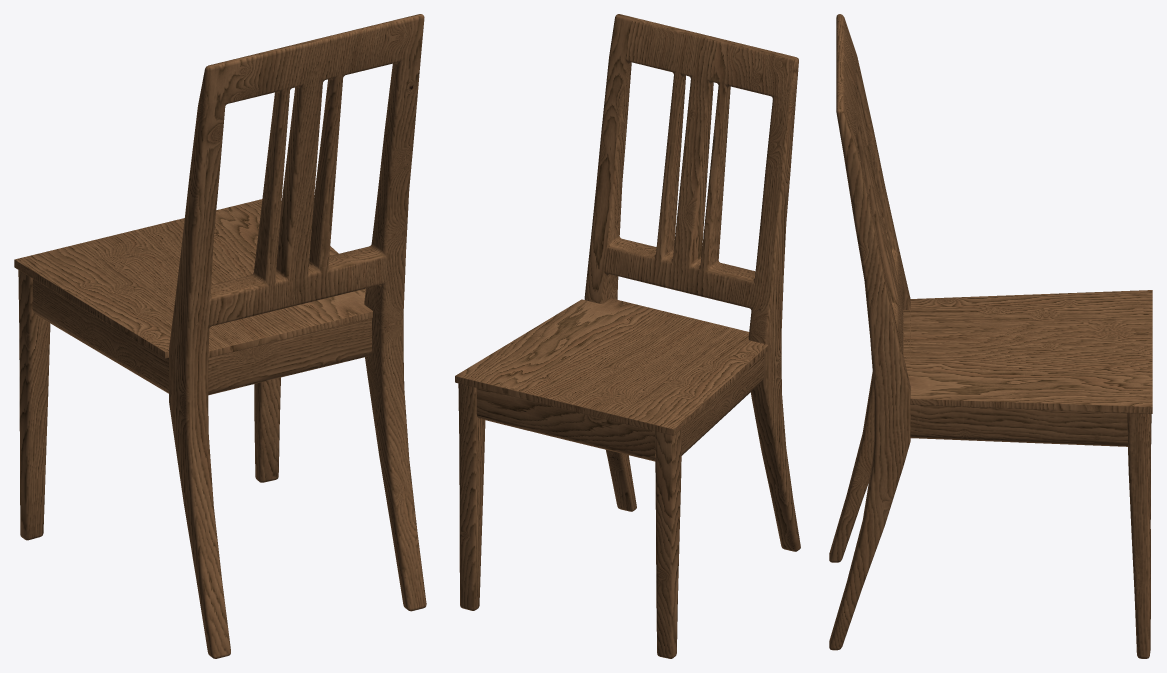
The model's file is Chair01.fbx.
3 renders of one model, left to right at view 1: azimuth 30°, elevation 25°; view 2: azimuth 150°, elevation 25°; view 3: azimuth 270°, elevation 25°, orthographic. The views are drawn at different scales.
Parts seen in each view (by area): view 1: Chair01; view 2: Chair01; view 3: Chair01.
Part boxes in pixels (box(x1,y1,x2,y2)): Chair01: box(14, 14, 426, 658); Chair01: box(455, 14, 800, 658); Chair01: box(829, 14, 1152, 658).
Size of the model in its own units: 40.36 by 87.29 by 47.21.
